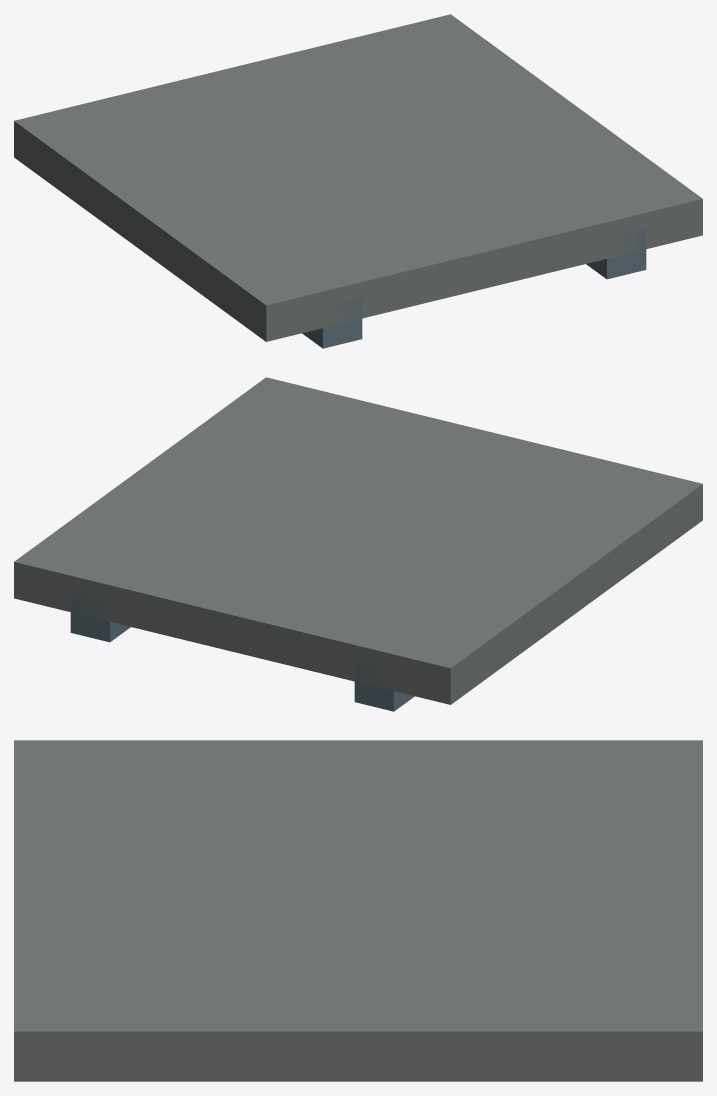
The model's file is architecture-city-ceiling.lod0.glb.
3 renders of one model, top to bottom at view 1: azimuth 30°, elevation 25°; view 2: azimuth 150°, elevation 25°; view 3: azimuth 270°, elevation 25°, orthographic. The views are drawn at different scales.
Visible parts, largest first — view 1: architecture-city-ceiling__body; view 2: architecture-city-ceiling__body; view 3: architecture-city-ceiling__body.
Part boxes in pixels (x1,y1,x2,y2): architecture-city-ceiling__body: (14, 14, 702, 348); architecture-city-ceiling__body: (14, 377, 702, 711); architecture-city-ceiling__body: (14, 740, 702, 1081).
Bounding box in the file's own units: 2 × 0.25 × 2.
